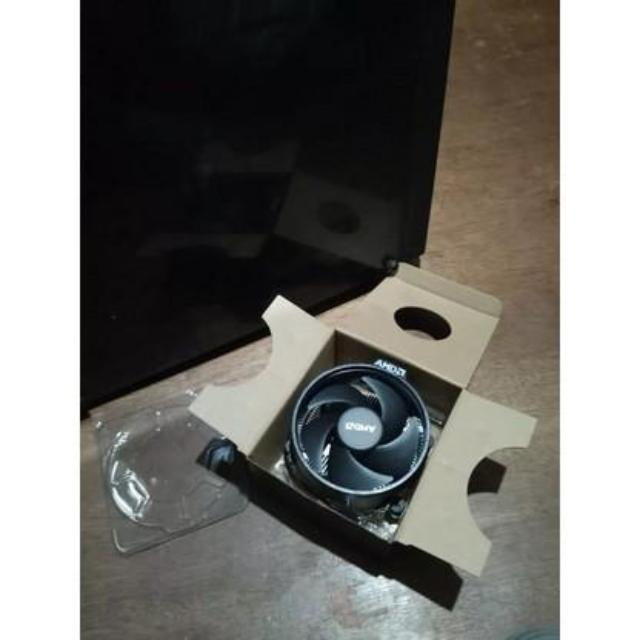CPU_Fan: (286, 364, 432, 504)
